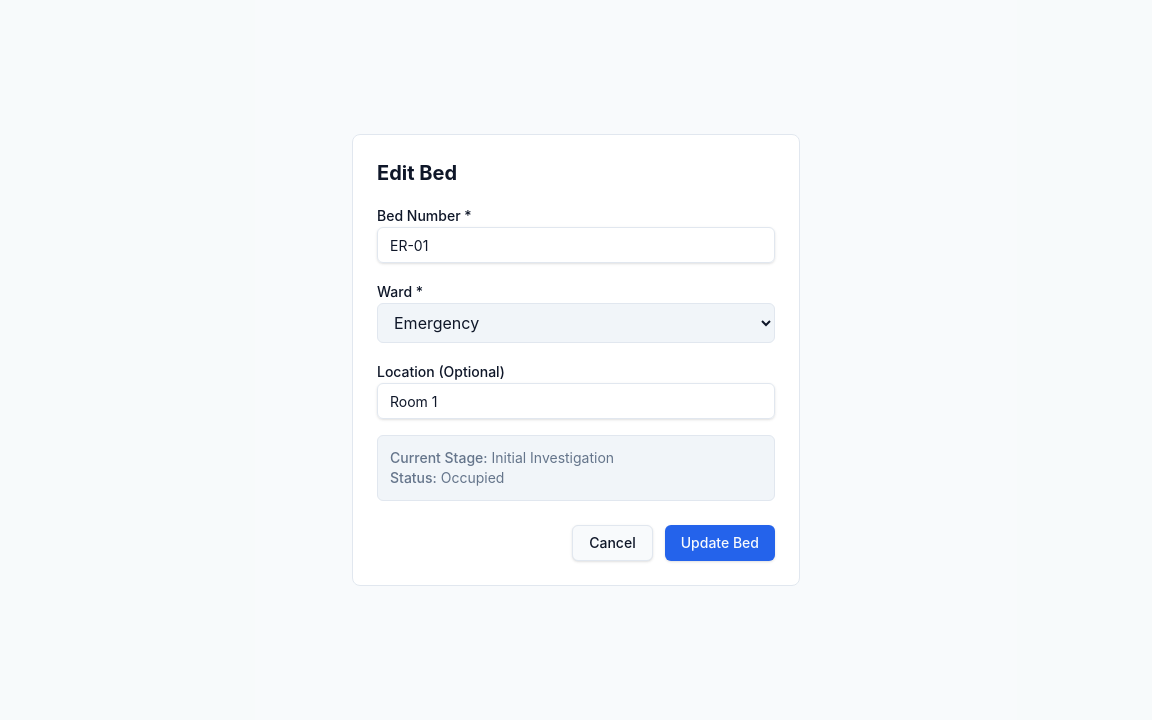
Test case: EditBedDialog recovery › shows error and keeps draft when update fails
Replace the text in the field labelled "Bed Number *" with "ER-77" at (576, 245), box x1=377 y1=227 x2=775 y2=263
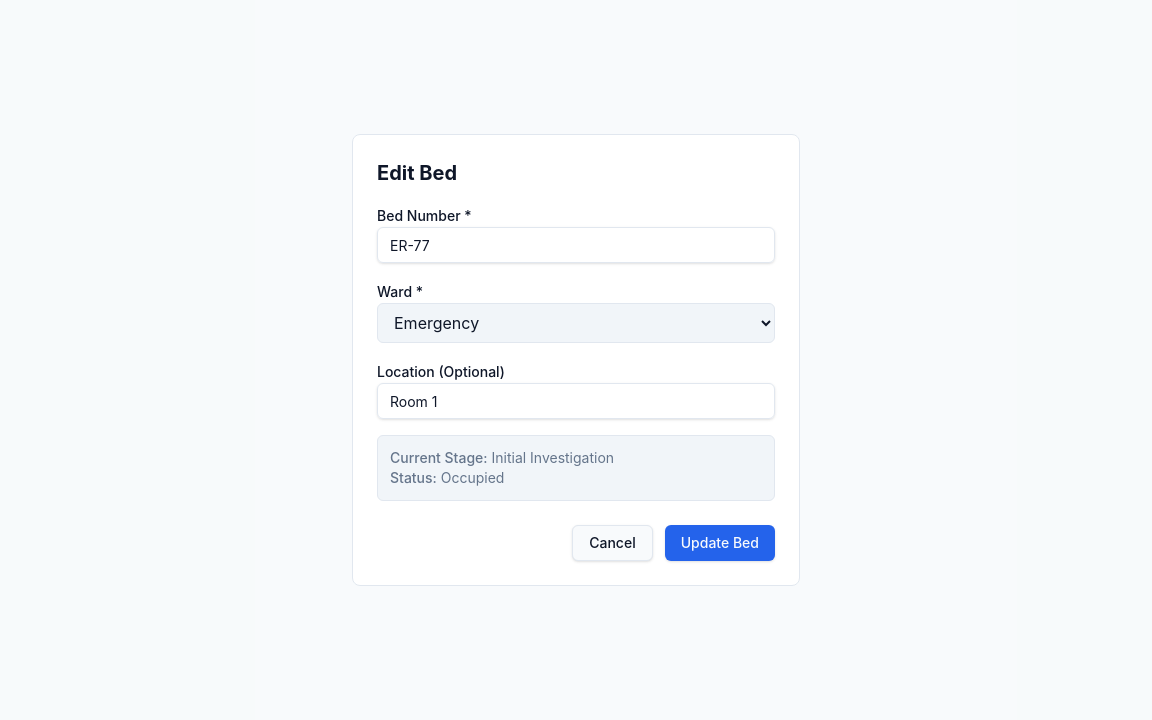
Submit the form named "Update Bed", box x1=377 y1=203 x2=775 y2=561
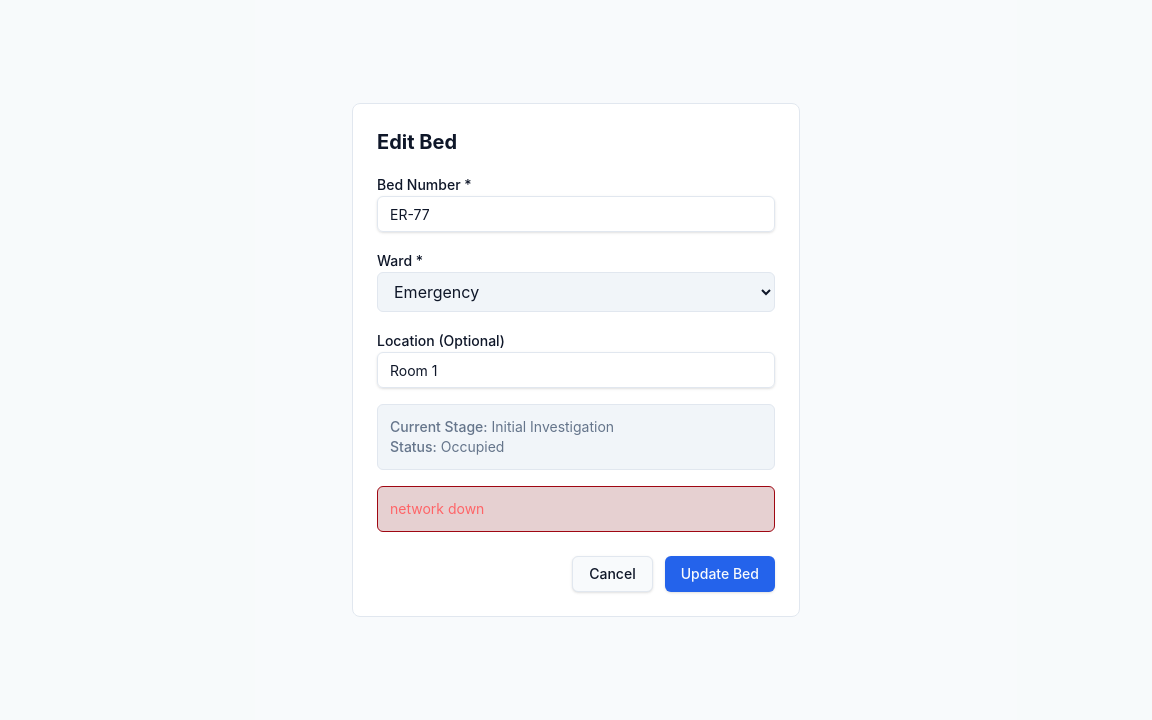
Expected: the text "network down" is shown, x1=377 y1=486 x2=775 y2=532
